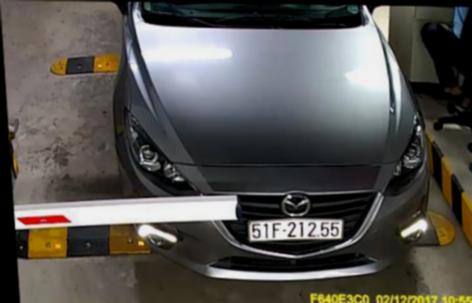License_Plate: (243, 214, 347, 245)
